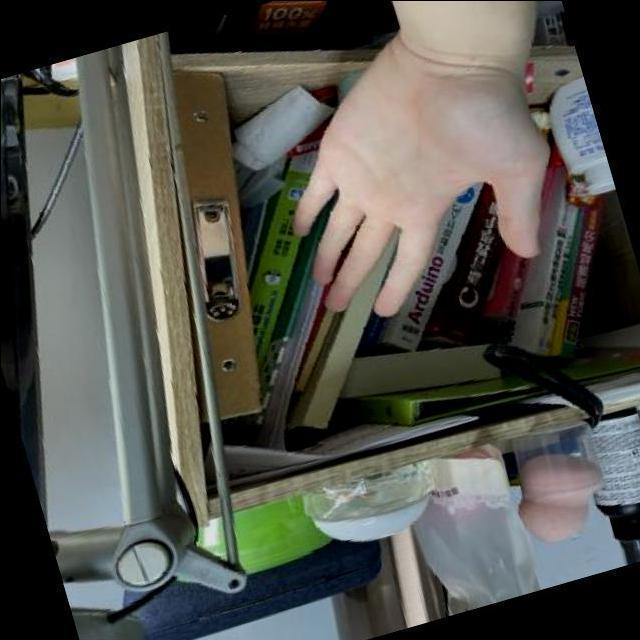hand: (232, 0, 609, 364)
